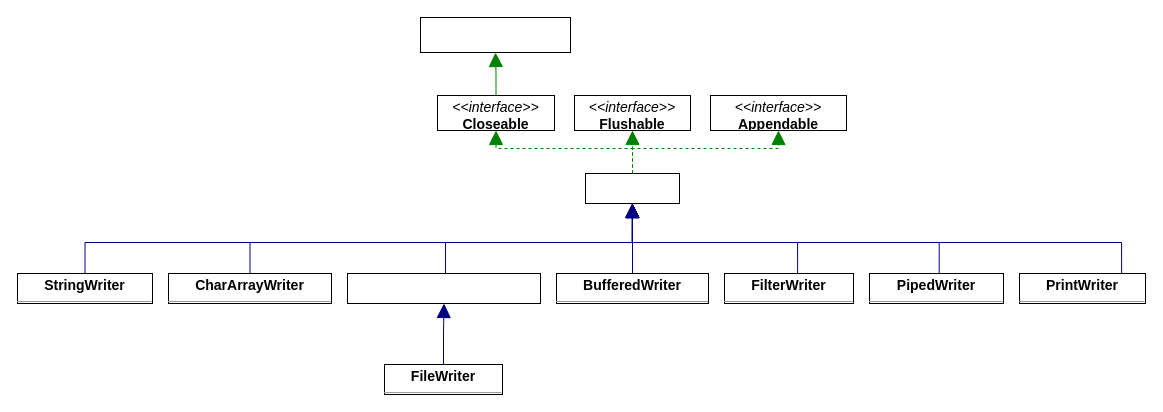
This 1163x412 diagram has some shape labels left out. The shapes that lost their labels are listed below. From the top down, each one's centre as x and y in pixels, then its label:
At [495,34]: "<<interface>> AutoCloseable".
At [632,188]: "Writer".
At [443,288]: "OutputStreamWriter".
